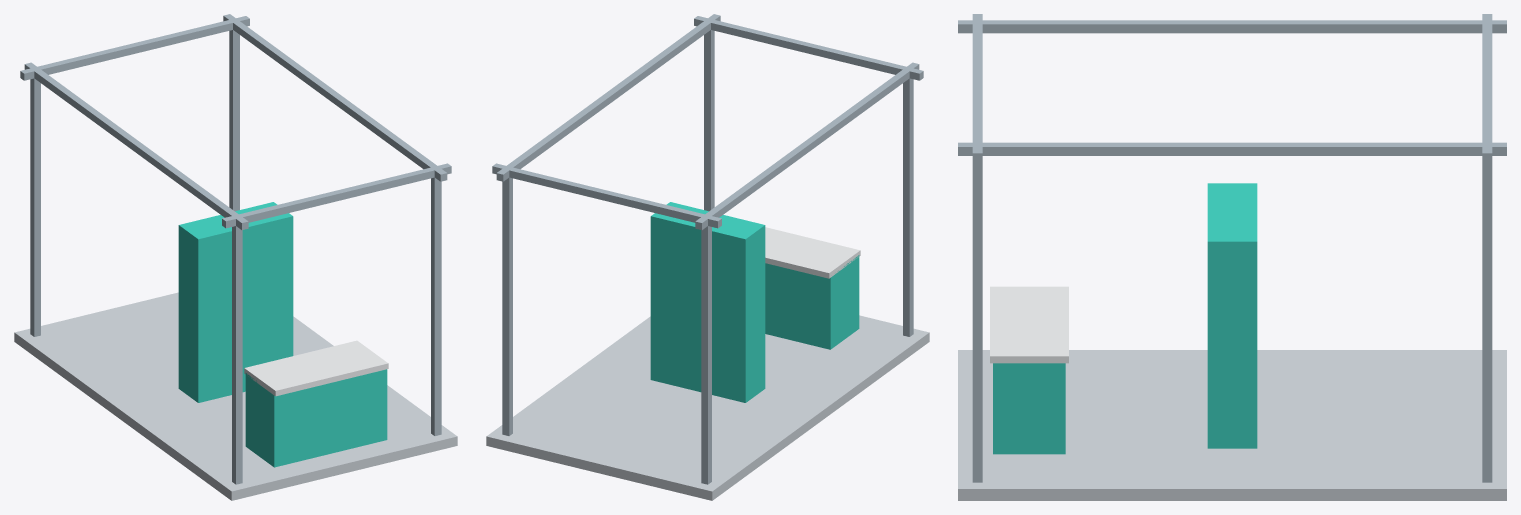
3 renders of one model, left to right at view 1: azimuth 30°, elevation 25°; view 2: azimuth 150°, elevation 25°; view 3: azimuth 270°, elevation 25°, orthographic. The views are drawn at different scales.
Parts seen in each view (by area): view 1: Exhibition Booth Concept; view 2: Exhibition Booth Concept; view 3: Exhibition Booth Concept.
Boxes of the visible parts, x1=… form: Exhibition Booth Concept: x1=14, y1=14, x2=457, y2=500; Exhibition Booth Concept: x1=486, y1=14, x2=929, y2=500; Exhibition Booth Concept: x1=958, y1=14, x2=1506, y2=500.
Size of the model in its own units: 3 by 3.49 by 5.
